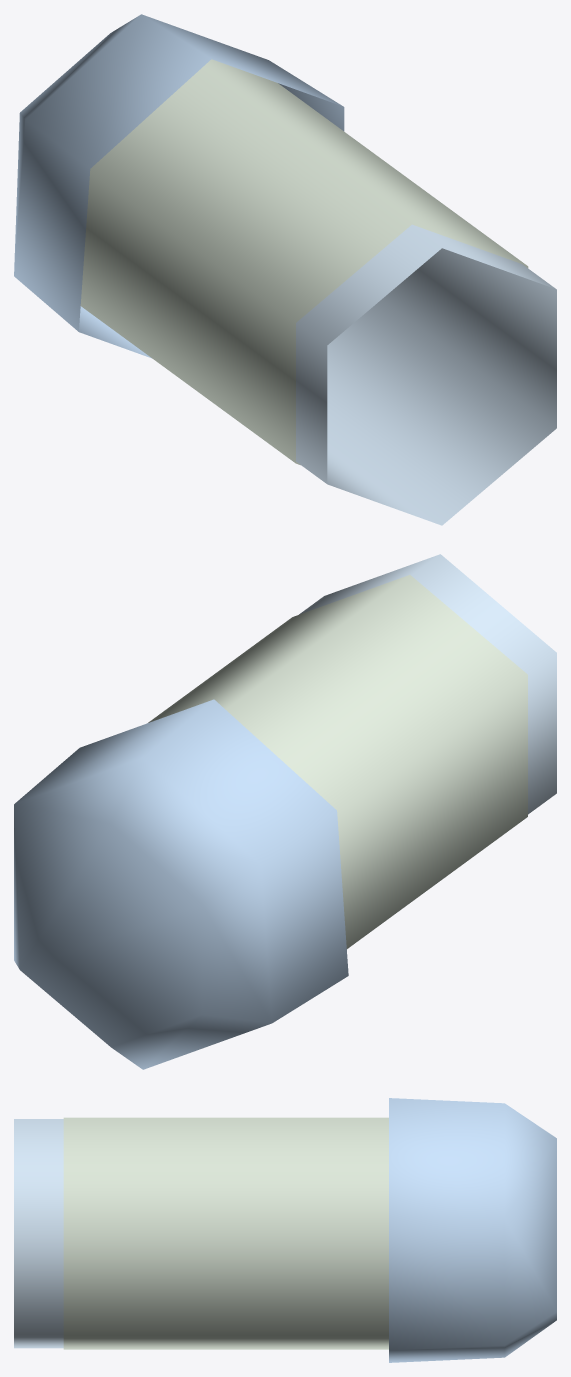
The picture shows the model from 3 angles, top to bottom: view 1: azimuth 30°, elevation 25°; view 2: azimuth 150°, elevation 25°; view 3: azimuth 270°, elevation 25°; orthographic projection. The views are drawn at different scales.
Parts seen in each view (by area): view 1: Object52; view 2: Object52; view 3: Object52.
Part boxes in pixels (x1,y1,x2,y2): Object52: [14, 14, 556, 525]; Object52: [14, 554, 556, 1069]; Object52: [14, 1098, 556, 1362].
Size of the model in its own units: 8802 by 10163 by 18879.
